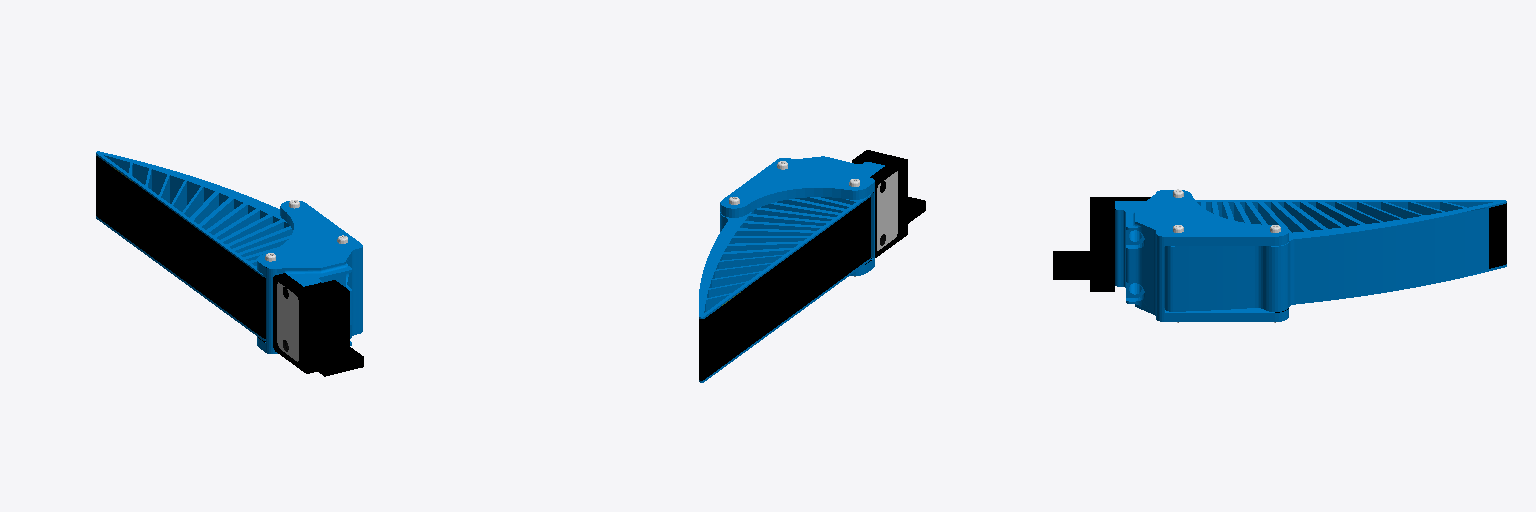
3 renders of one model, left to right at view 1: azimuth 30°, elevation 25°; view 2: azimuth 150°, elevation 25°; view 3: azimuth 270°, elevation 25°, orthographic.
Visible parts, largest first — view 1: one_piece_wide_grasp_finray_finger; view 2: one_piece_wide_grasp_finray_finger; view 3: one_piece_wide_grasp_finray_finger.
Part boxes in pixels (bbox=[...]): one_piece_wide_grasp_finray_finger: bbox=[96, 151, 363, 376]; one_piece_wide_grasp_finray_finger: bbox=[699, 150, 925, 382]; one_piece_wide_grasp_finray_finger: bbox=[1053, 189, 1506, 322].
Bounding box in the file's own units: 0.04 × 0.0376 × 0.1634.
1 materials, 1 textured.